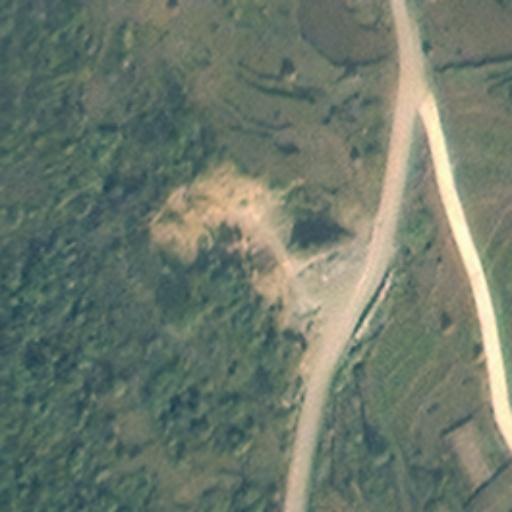landslide: (150, 160, 297, 263)
